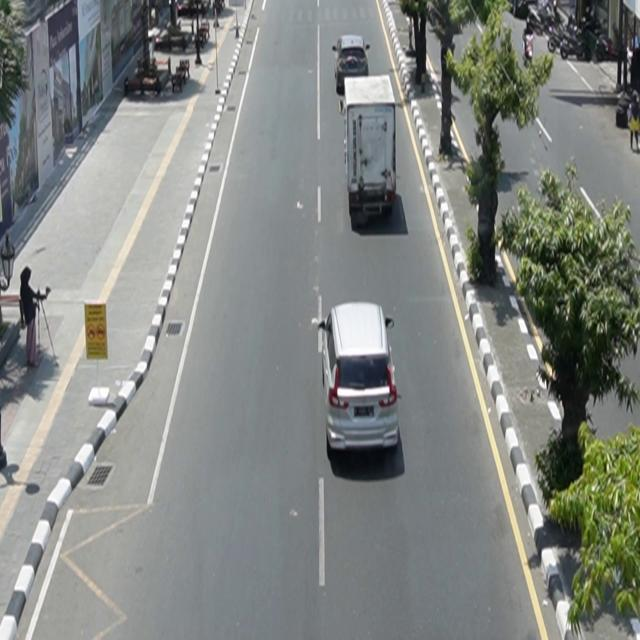car: (318, 301, 400, 457), (333, 35, 371, 95)
truck: (339, 74, 398, 228)
